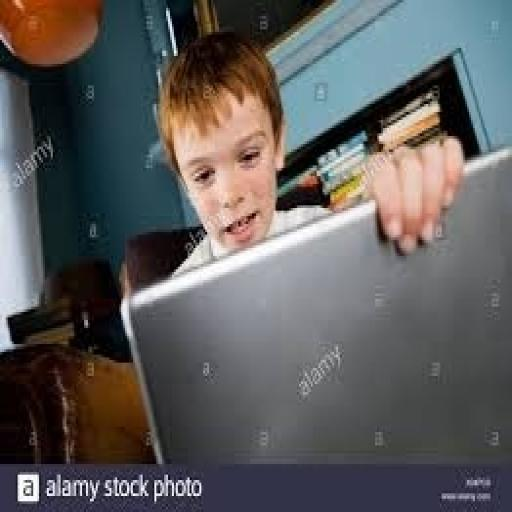using_laptop: (119, 141, 510, 472)
